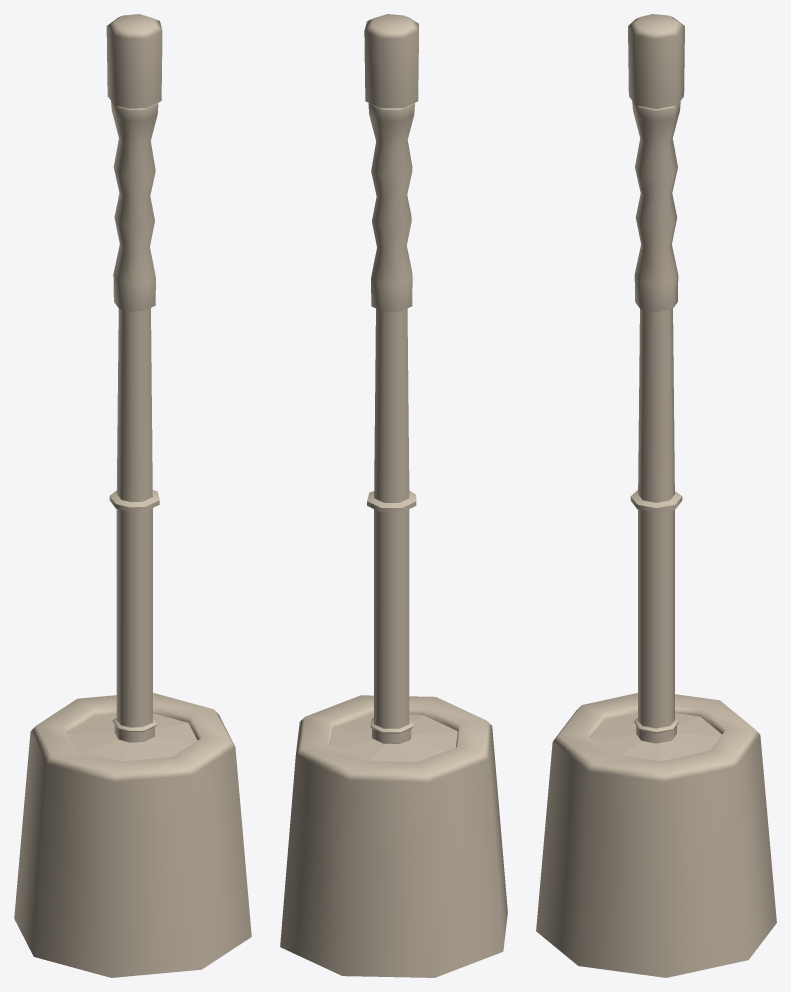
Rendered from toilet_brush_3_30_L.fbx.
3 views of the same model, side by side, from view 1: azimuth 30°, elevation 25°; view 2: azimuth 150°, elevation 25°; view 3: azimuth 270°, elevation 25° (orthographic).
Visible parts, largest first — view 1: toilet_brush_3_30_L; view 2: toilet_brush_3_30_L; view 3: toilet_brush_3_30_L.
Boxes of the visible parts, x1=… form: toilet_brush_3_30_L: x1=14, y1=14, x2=251, y2=977; toilet_brush_3_30_L: x1=280, y1=14, x2=507, y2=977; toilet_brush_3_30_L: x1=536, y1=14, x2=776, y2=977.
Size of the model in its own units: 2.1 by 8.7 by 2.1.
